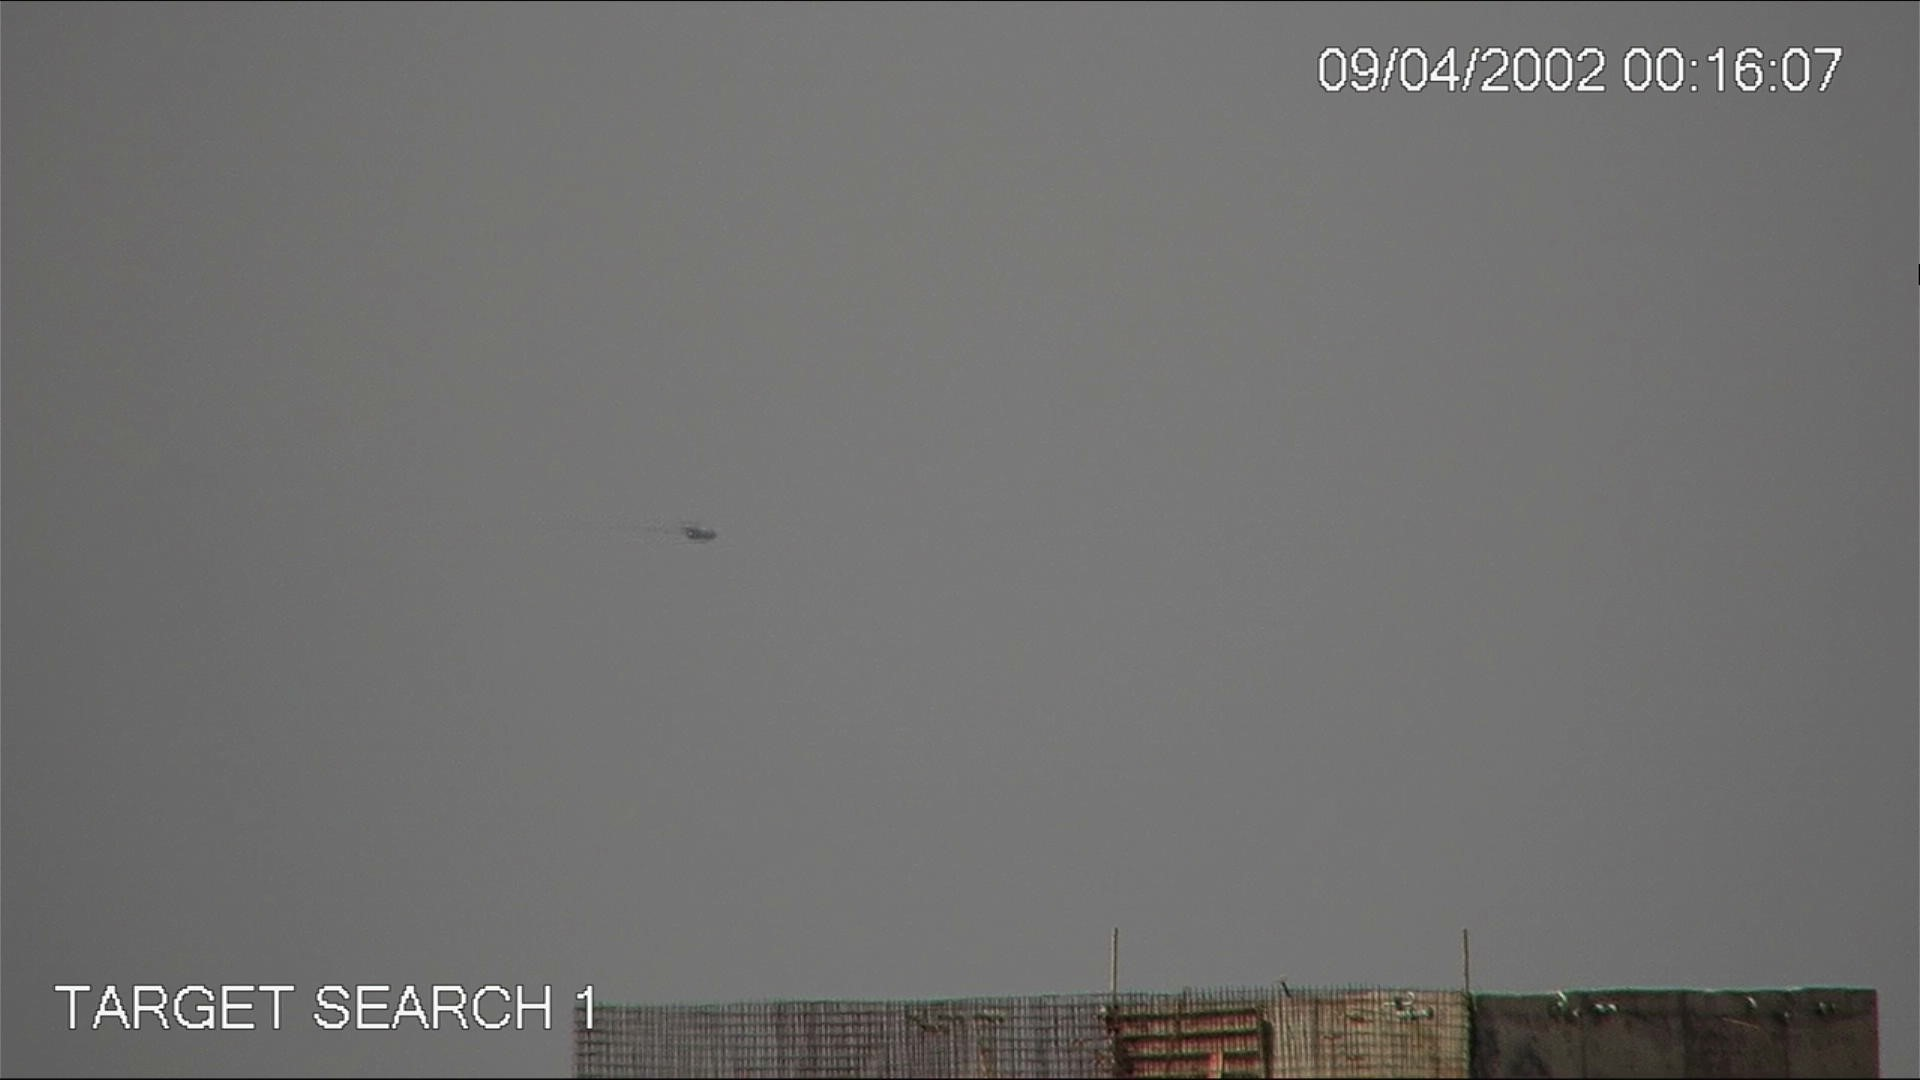SU_30: (680, 524, 719, 543)
